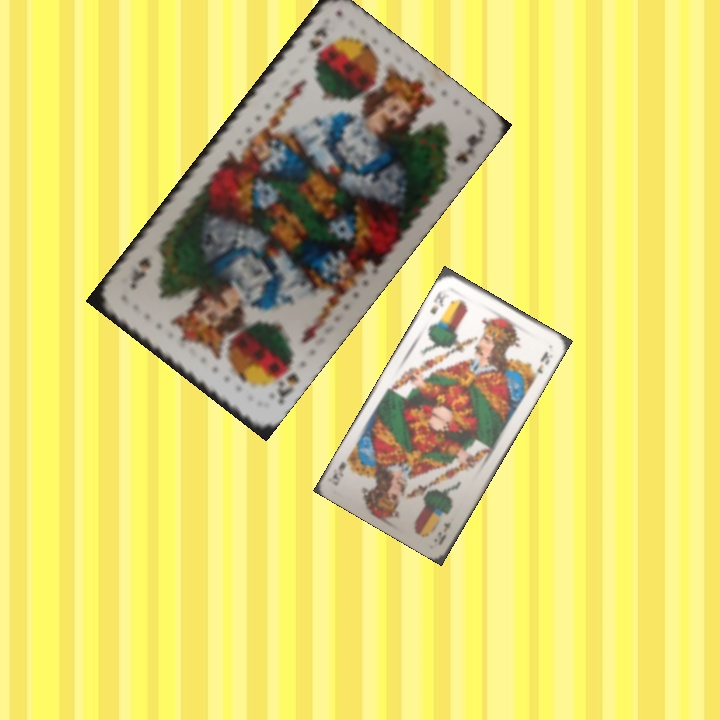EK: (426, 284, 452, 317), (433, 518, 454, 547)
SK: (271, 353, 302, 407), (304, 23, 330, 55)
